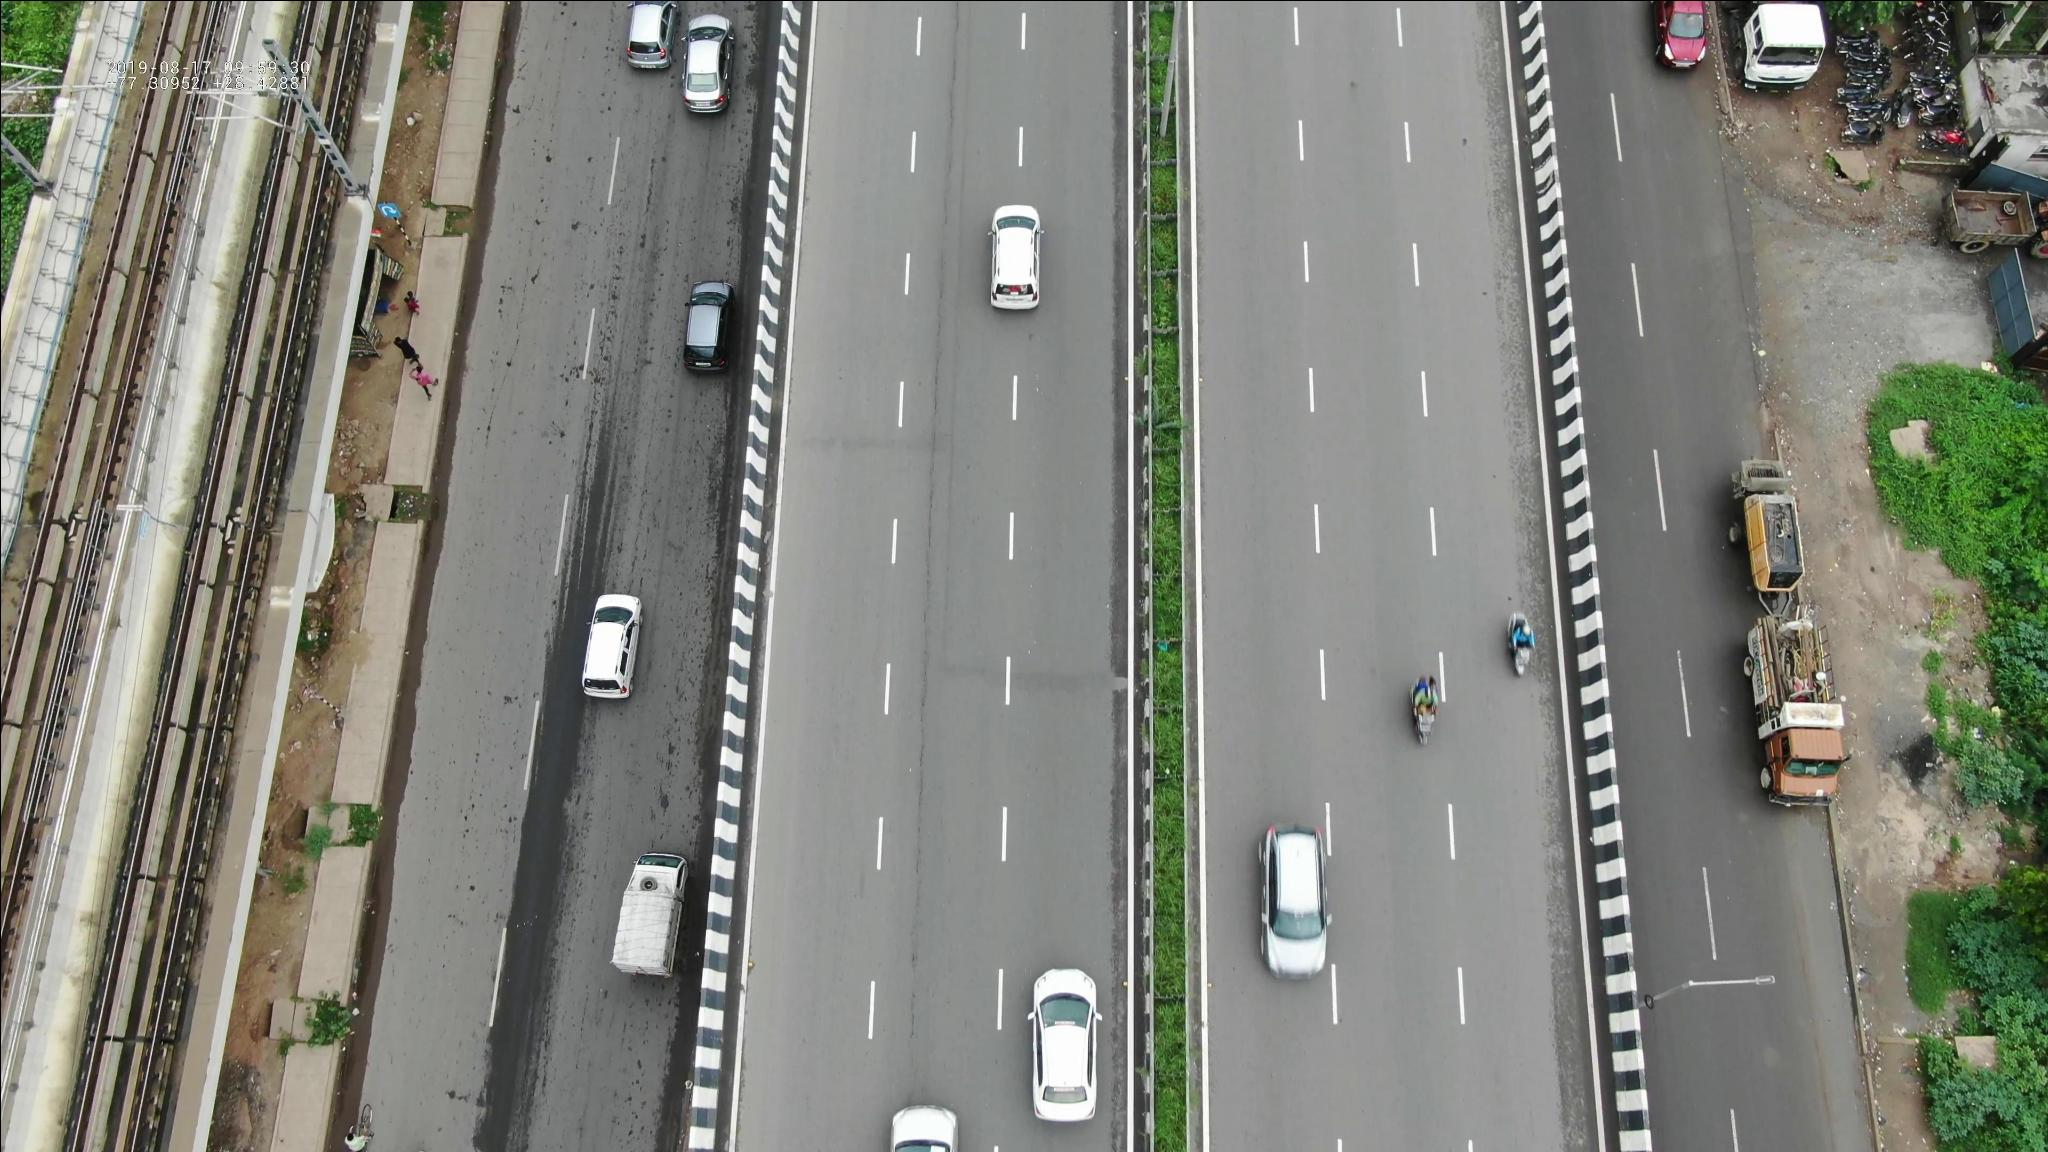Ravelling: (928, 4, 978, 196)
